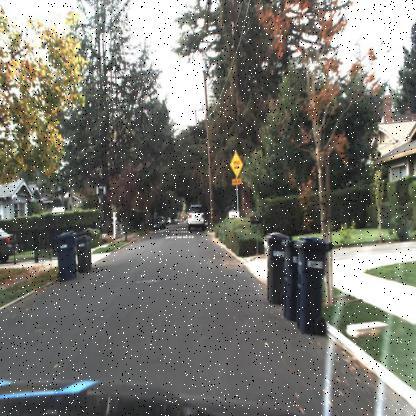car: (182, 200, 207, 232), (0, 226, 17, 266), (150, 214, 168, 234)
